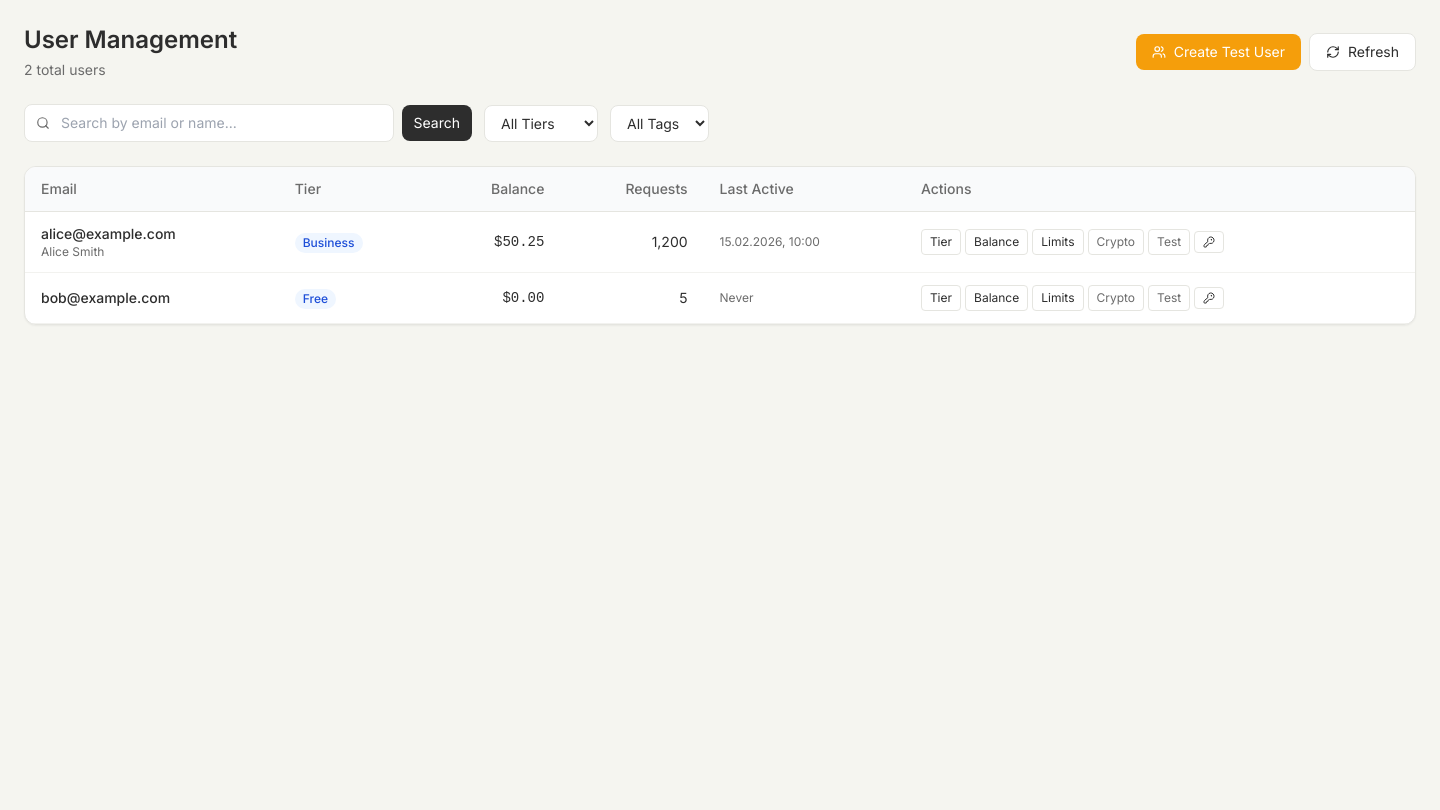
AdminUsersPage › Balance action button opens balance modal
This screenshot has width=1440, height=810.
Check: the text "alice@example.com" is shown, box x1=41 y1=224 x2=176 y2=244
Click the button "Balance" in the row of "alice@example.com": (997, 242) x1=965 y1=229 x2=1028 y2=255
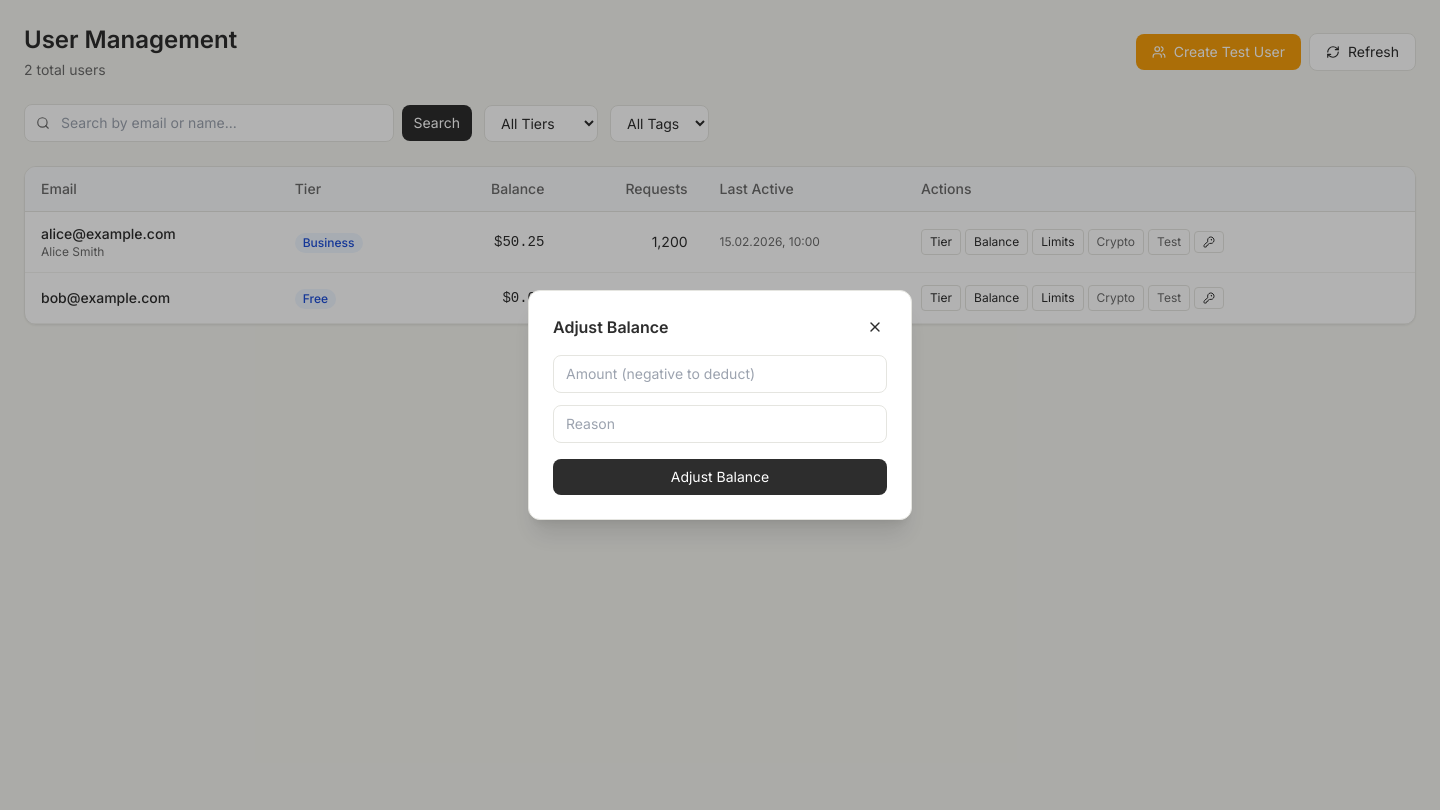
Check: the number field with placeholder "Amount (negative to deduct)" is shown, box x1=553 y1=355 x2=887 y2=393
Check: the field with placeholder "Reason" is shown, box x1=553 y1=405 x2=887 y2=443
Check: the button "Adjust Balance" is shown, box x1=553 y1=459 x2=887 y2=495
